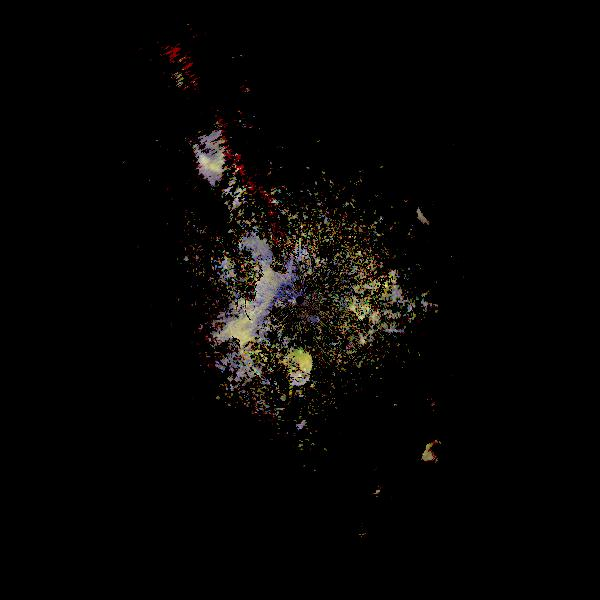roost: (412, 432, 478, 498), (273, 345, 327, 399), (414, 200, 453, 239), (294, 416, 315, 437)
